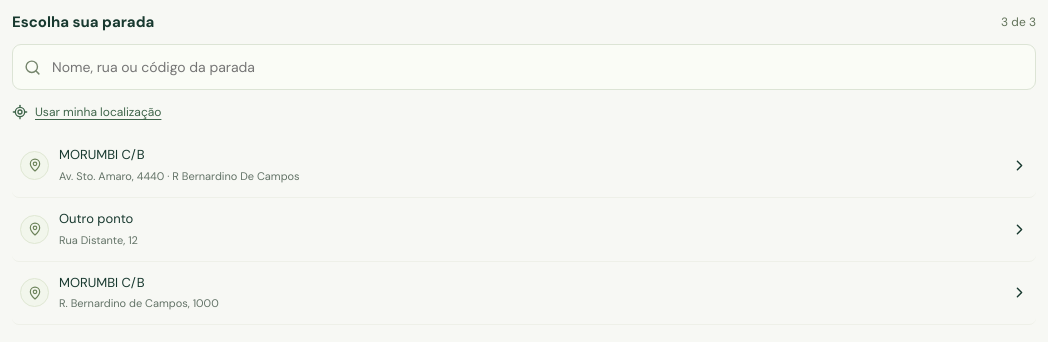
Test: combina as palavras da referência em qualquer ordem e preserva paradas homônimas
Type "Campos rua Bernardino" into the field named "Buscar parada nesta linha" at point(537, 67), box [50, 45, 1024, 89]
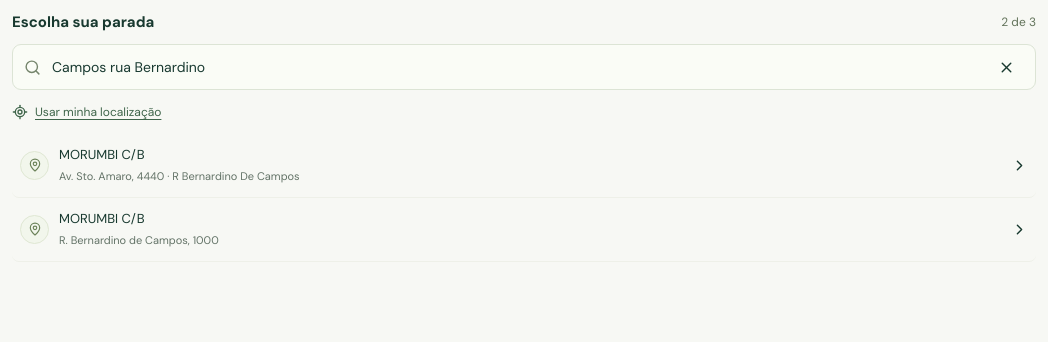
expect the number of buttons "MORUMBI C/B Av. Sto. Amaro, 4440 · R Bernardino De Campos" is 2: met, box [12, 134, 1036, 198]; [12, 198, 1036, 262]
expect the button "Outro ponto" is gone: met
